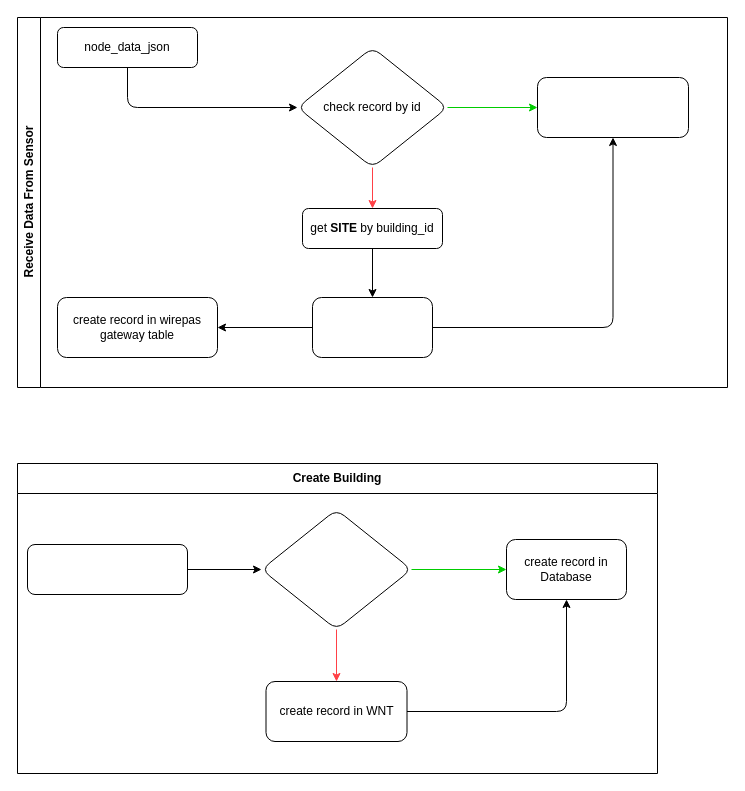
This 745x791 diagram has some shape labels left out. Here are the shapes that lost their labels. From the top down, the centre of each, then its label:
At (x=612, y=107): "Store in (Wirepas Data)".
At (x=372, y=327): "Create New Record".
At (x=107, y=569): "create building request".
At (x=336, y=569): "check record by name in wnt".
